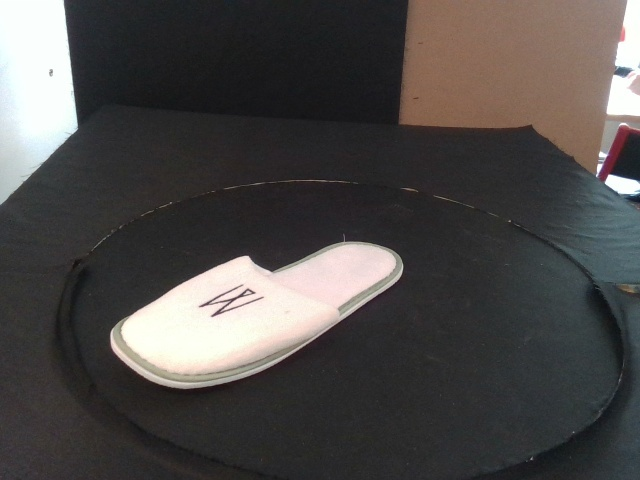shoe: (108, 238, 405, 391)
